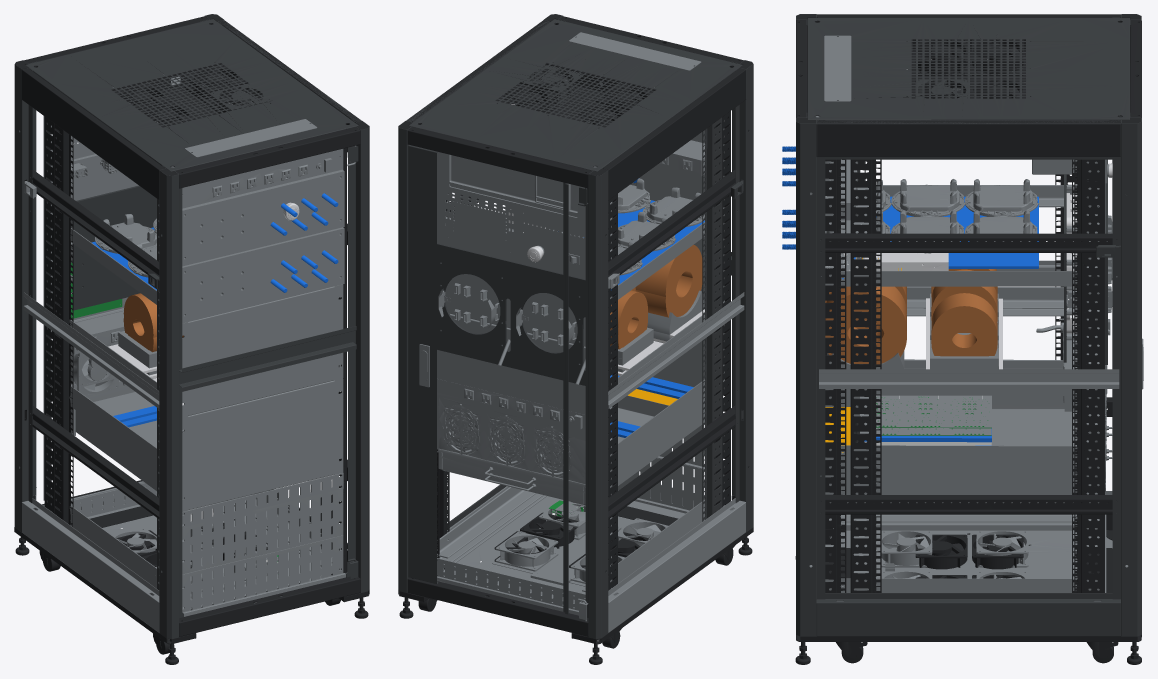
The model's file is power-supply-panels-off.glb.
3 renders of one model, left to right at view 1: azimuth 30°, elevation 25°; view 2: azimuth 150°, elevation 25°; view 3: azimuth 270°, elevation 25°, orthographic. The views are drawn at different scales.
Size of the model in its own units: 0.6 by 1.39 by 0.8351.
